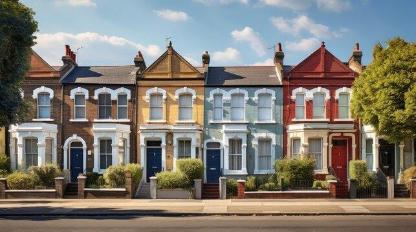door: (331, 137, 351, 183), (145, 139, 164, 186), (204, 144, 222, 188), (69, 145, 85, 187)
